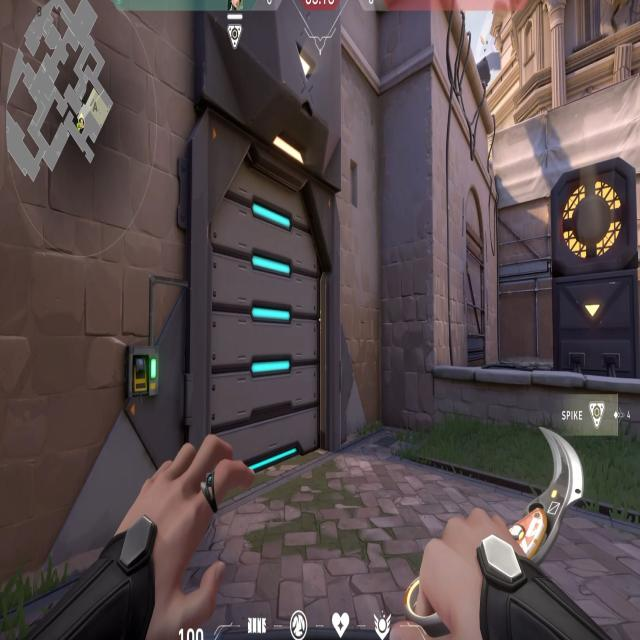A_Door: (202, 100, 336, 467)
A_Heaven_Wall: (492, 134, 640, 268)
